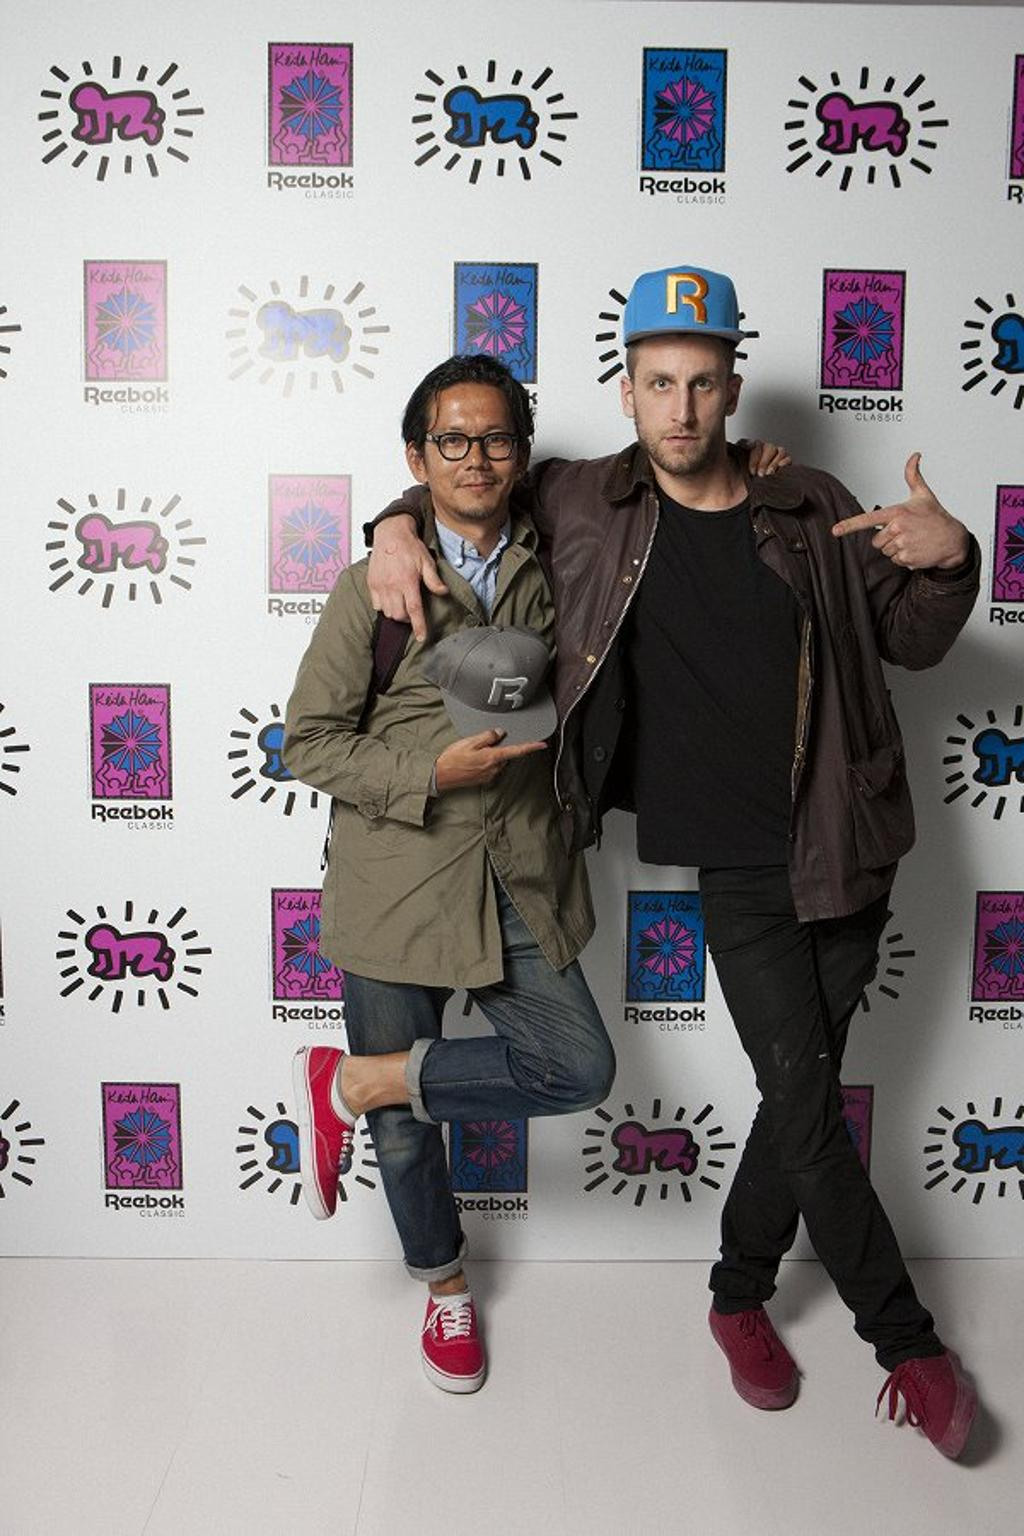face: (646, 330, 736, 459), (432, 387, 516, 504)
